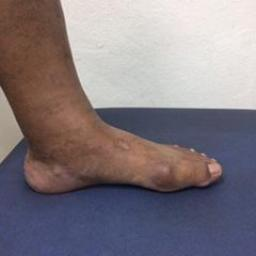Medial View -Left Foot-: (5, 101, 225, 204)
